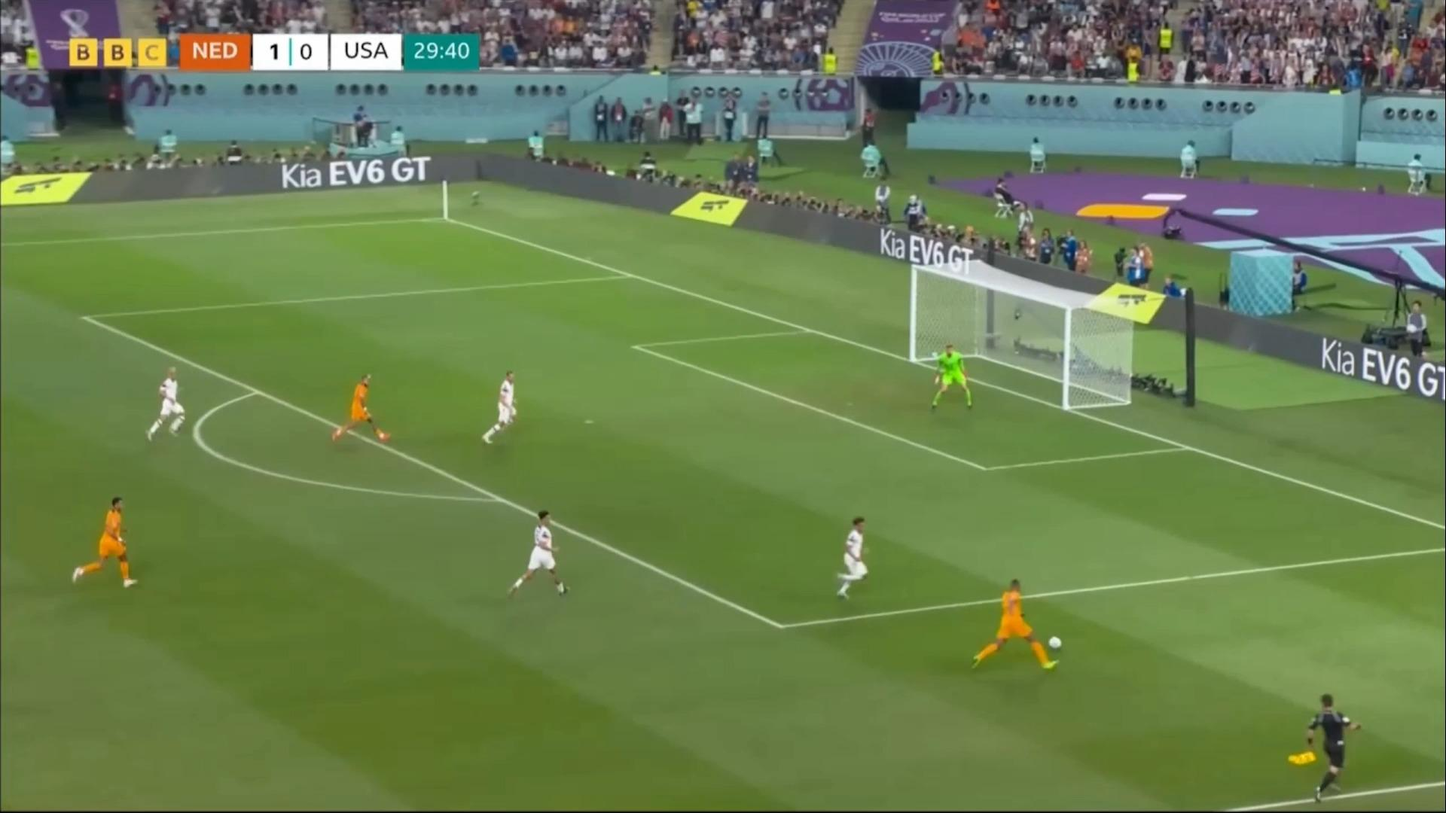Ball: (1045, 634, 1064, 654)
Player: (972, 574, 1052, 676), (72, 491, 143, 591), (507, 511, 570, 603), (331, 368, 389, 450), (828, 514, 878, 605), (481, 365, 532, 450), (144, 364, 190, 448), (930, 344, 973, 412), (1406, 301, 1428, 361)
Ref: (1298, 691, 1367, 804)
